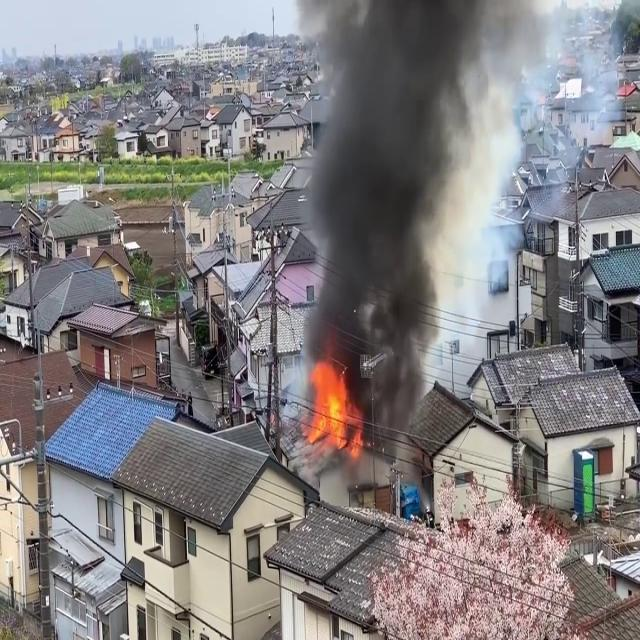Fire: (302, 356, 364, 454)
Smoke: (296, 0, 492, 401)
